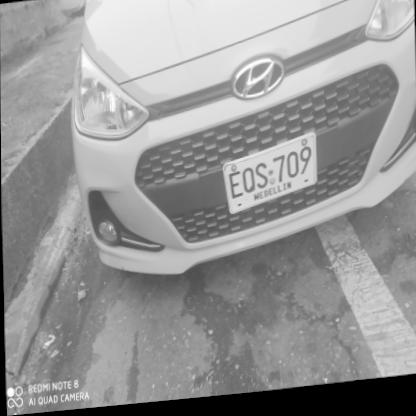placa: (215, 134, 323, 222)
